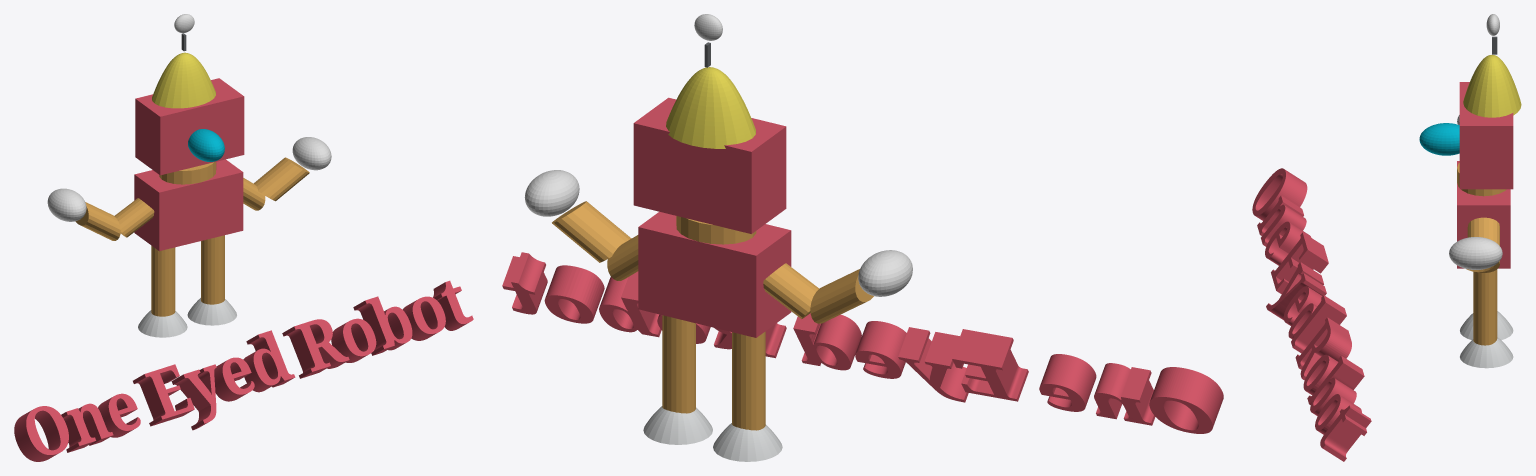
File: 3D robot.glb
The picture shows the model from 3 angles, left to right: view 1: azimuth 30°, elevation 25°; view 2: azimuth 150°, elevation 25°; view 3: azimuth 270°, elevation 25°; orthographic projection. The views are drawn at different scales.
Parts seen in each view (by area): view 1: Mesh_Mesh_head_geo.001_lambert2SG.001; view 2: Mesh_Mesh_head_geo.001_lambert2SG.001; view 3: Mesh_Mesh_head_geo.001_lambert2SG.001.
Part boxes in pixels (x1=…): Mesh_Mesh_head_geo.001_lambert2SG.001: x1=14, y1=14, x2=473, y2=461; Mesh_Mesh_head_geo.001_lambert2SG.001: x1=502, y1=14, x2=1223, y2=461; Mesh_Mesh_head_geo.001_lambert2SG.001: x1=1252, y1=14, x2=1521, y2=461.
Size of the model in its own units: 220 by 144 by 100.
